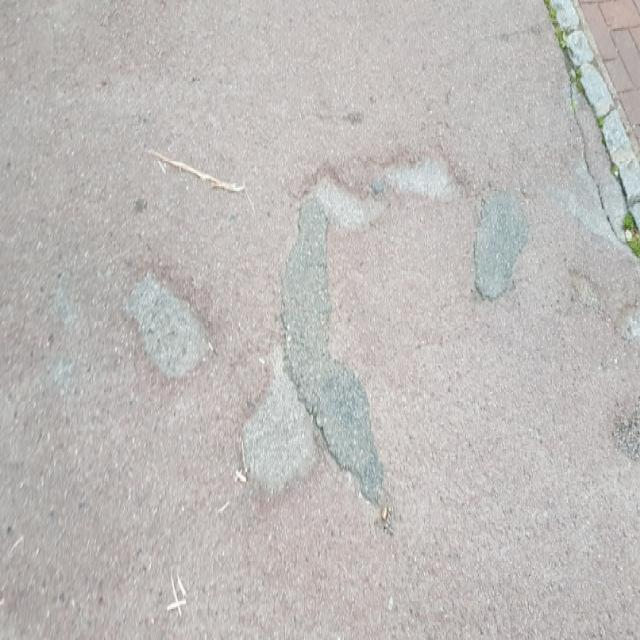pothole: (232, 324, 322, 496), (119, 254, 217, 384), (297, 156, 380, 228), (378, 148, 468, 202)
